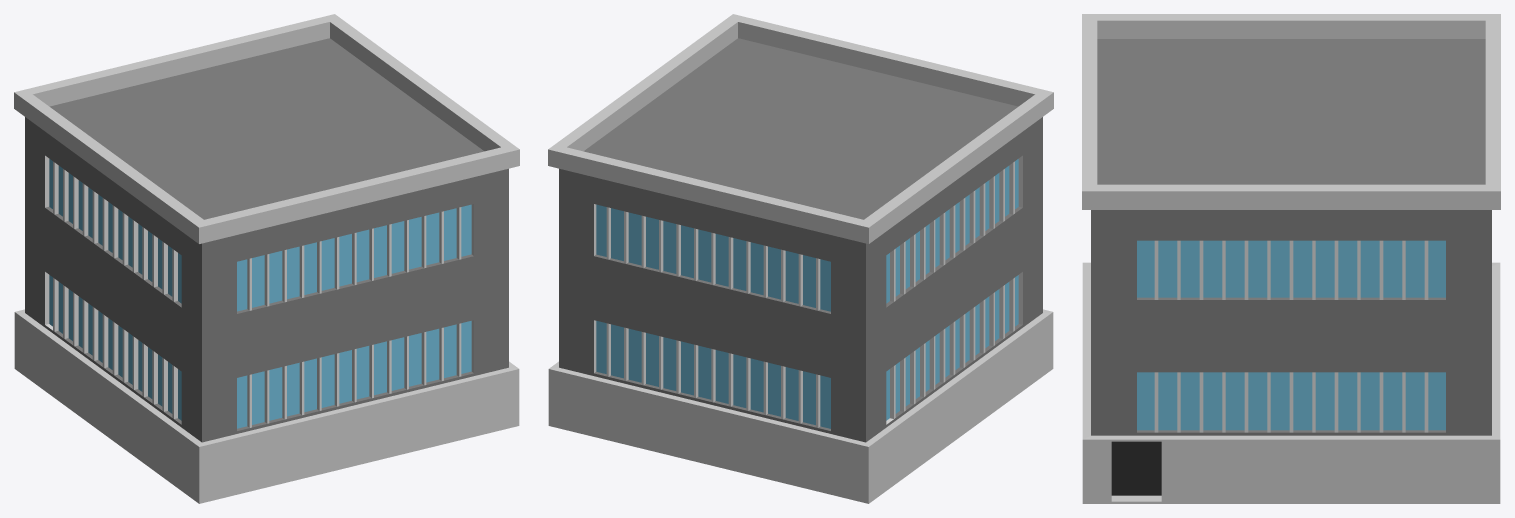
The model's file is building2 1.fbx.
3 views of the same model, side by side, from view 1: azimuth 30°, elevation 25°; view 2: azimuth 150°, elevation 25°; view 3: azimuth 270°, elevation 25° (orthographic). The views are drawn at different scales.
Parts seen in each view (by area): view 1: Cube.001; view 2: Cube.001; view 3: Cube.001.
Part boxes in pixels (left/top/right/bottom): Cube.001: left=14, top=14, right=519, bottom=503; Cube.001: left=548, top=14, right=1053, bottom=503; Cube.001: left=1082, top=14, right=1500, bottom=503.
Size of the model in its own units: 2299 by 1894 by 2297.
